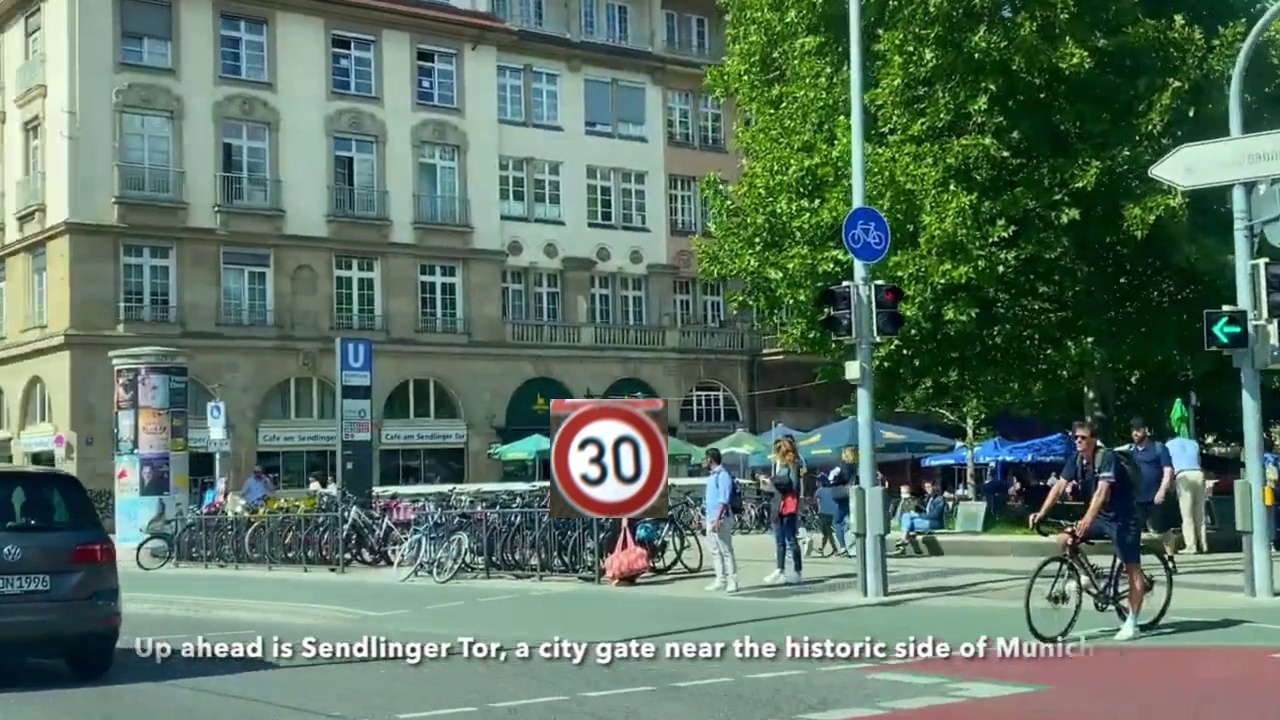Speed 30: (550, 399, 668, 518)
